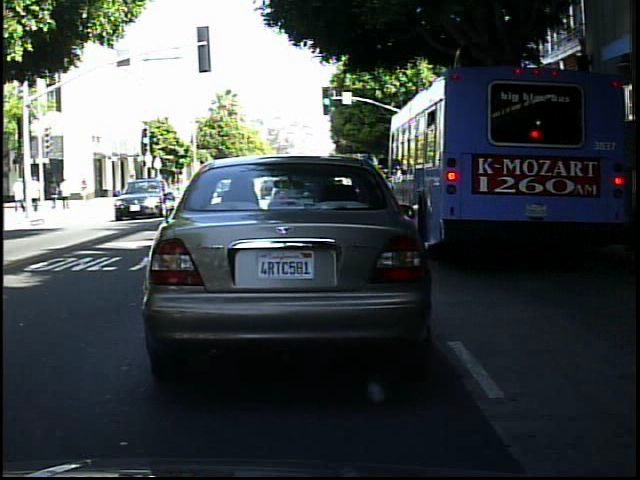person: (58, 173, 75, 213), (123, 169, 141, 204), (46, 176, 62, 213), (22, 174, 39, 208), (77, 173, 94, 206), (31, 173, 44, 212), (13, 173, 24, 216)
